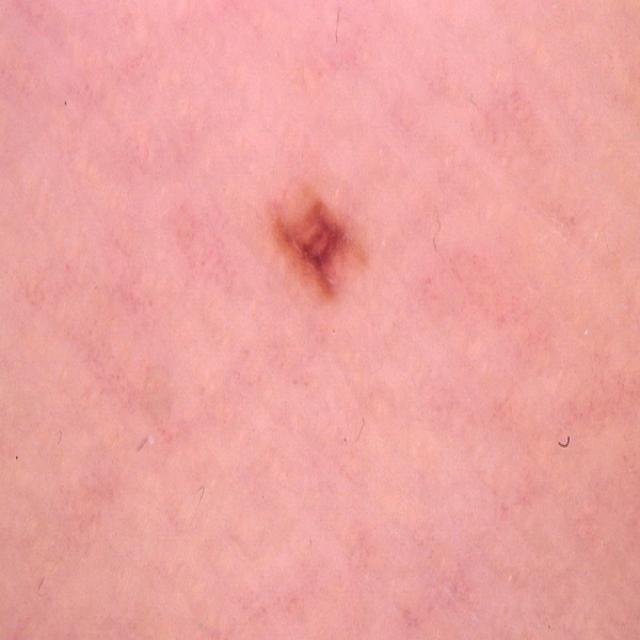NV: (265, 183, 367, 304)
